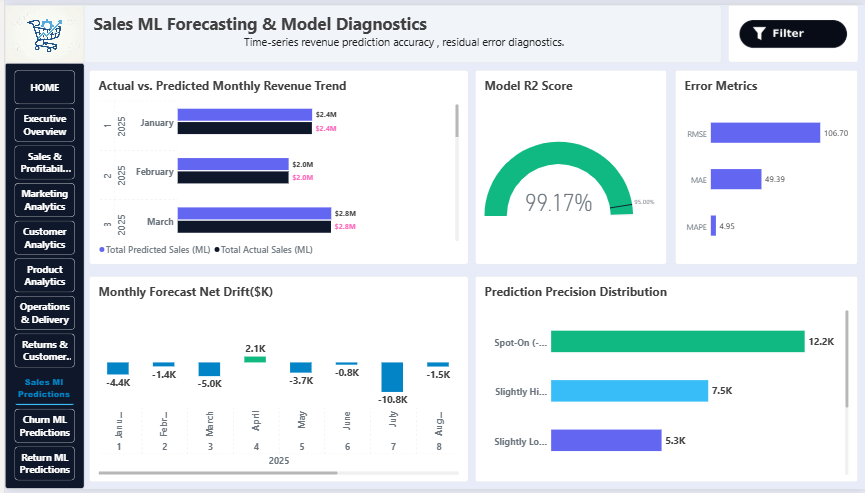

This screenshot's page, from the dashboard's own definition file:
{"tool":"powerbi","page":{"name":" Sales Ml Predictions","canvas":[1920,1080],"ordinal":8},"visuals":[{"type":"pageNavigator","box":[0,129.6,177.1,950.4],"z":0},{"type":"image","box":[0,0,177.1,129.6],"z":1000},{"type":"clusteredBarChart","title":"Actual vs. Predicted Monthly Revenue Trend","fields":{"Category":["sales_ml_predictions.Month","sales_ml_predictions.Year","sales_ml_predictions.Month Name"],"Y":["sales_ml_predictions.Total Predicted Sales (ML)","sales_ml_predictions.Total Actual Sales (ML)"]},"box":[187.9,144.7,846.7,434.2],"z":2000},{"type":"gauge","title":"Model R2 Score","fields":{"Y":["sales_ml_metrics.Model R2 Score"]},"box":[1049.8,144.7,427.7,434.2],"z":3000},{"type":"clusteredColumnChart","title":"Monthly Forecast Net Drift($K)","fields":{"Category":["sales_ml_predictions.Year","sales_ml_predictions.Month","sales_ml_predictions.Month Name"],"Y":["Sum(sales_ml_predictions.error)"]},"box":[187.9,604.8,846.7,460.1],"z":4000},{"type":"textbox","box":[177.5,0,1422.5,129.1],"z":5000},{"type":"clusteredBarChart","title":"Error Metrics","fields":{"Category":["sales_ml_metrics.metric"],"Y":["Avg(sales_ml_metrics.value)"]},"box":[1496.9,144.7,408.2,434.2],"z":6000},{"type":"clusteredBarChart","title":"Prediction Precision Distribution","fields":{"Category":["sales_ml_predictions.Error Tolerance Band"],"Y":["CountNonNull(sales_ml_predictions.actual_sales)"]},"box":[1049.8,604.8,855.4,460.1],"z":7000},{"type":"image","title":"filter icon","box":[1614.1,0,290.7,128.5],"z":8000}]}

Visuals, with their boxes in screenshot pixels (x1, y1, x2, y2), scaled from the page's 1920x1080 canvas onto the 865x493 screenshot:
pageNavigator: box=[0, 59, 80, 492]
image: box=[0, 0, 80, 59]
"Actual vs. Predicted Monthly Revenue Trend" clusteredBarChart: box=[85, 66, 466, 264]
"Model R2 Score" gauge: box=[473, 66, 666, 264]
"Monthly Forecast Net Drift($K)" clusteredColumnChart: box=[85, 276, 466, 486]
textbox: box=[80, 0, 721, 59]
"Error Metrics" clusteredBarChart: box=[674, 66, 858, 264]
"Prediction Precision Distribution" clusteredBarChart: box=[473, 276, 858, 486]
"filter icon" image: box=[727, 0, 858, 59]
